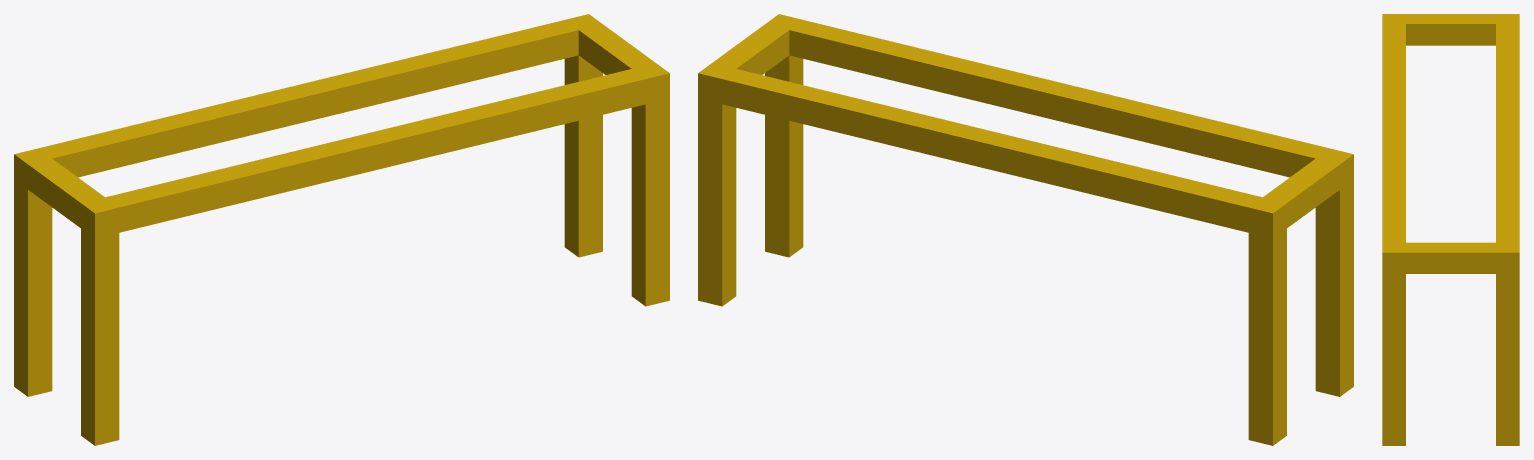
Rendered from Crane.obj.
3 views of the same model, side by side, from view 1: azimuth 30°, elevation 25°; view 2: azimuth 150°, elevation 25°; view 3: azimuth 270°, elevation 25° (orthographic). The views are drawn at different scales.
Size of the model in its own units: 11.9 by 4.6 by 2.9.
Materials: 1 (1 with a texture image).
